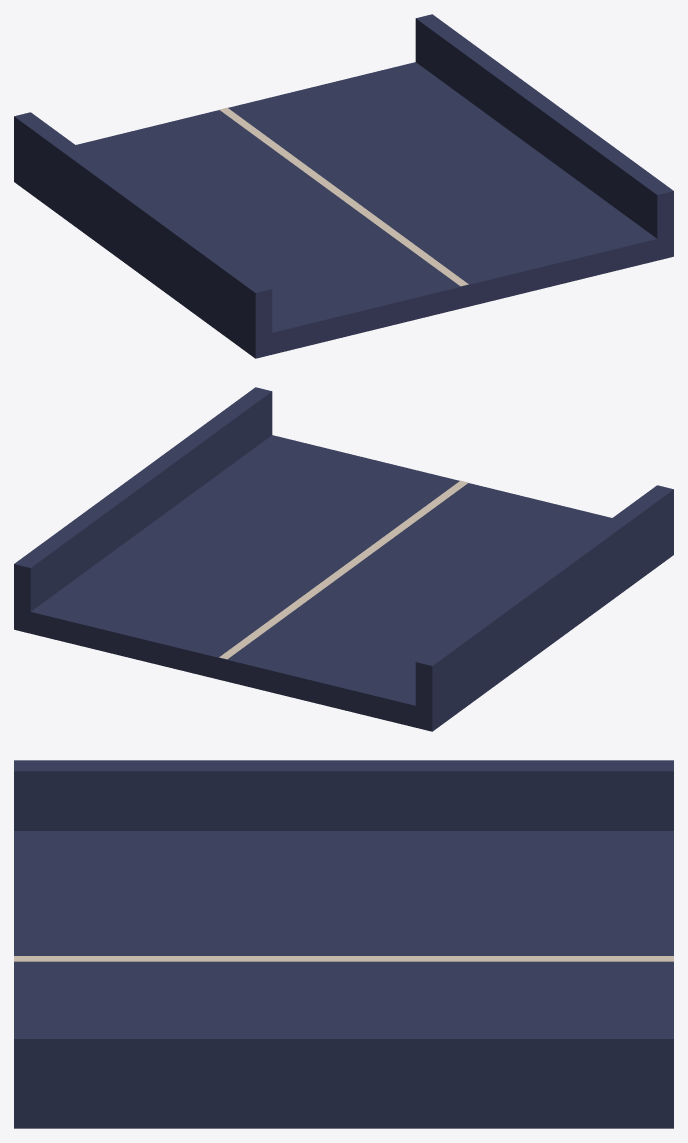
Rendered from ModularTrackStraight.fbx.
The picture shows the model from 3 angles, top to bottom: view 1: azimuth 30°, elevation 25°; view 2: azimuth 150°, elevation 25°; view 3: azimuth 270°, elevation 25°; orthographic projection. The views are drawn at different scales.
Visible parts, largest first — view 1: ModularTrackStraight, LaneDivider; view 2: ModularTrackStraight, LaneDivider; view 3: ModularTrackStraight, LaneDivider.
Boxes of the visible parts, x1,y1,x2,y2 form: ModularTrackStraight: (14,14,673,358); LaneDivider: (219,107,468,286); ModularTrackStraight: (14,387,673,731); LaneDivider: (219,480,468,659); ModularTrackStraight: (14,760,673,1128); LaneDivider: (14,956,673,961).
Size of the model in its own units: 1000 by 150 by 1000.
